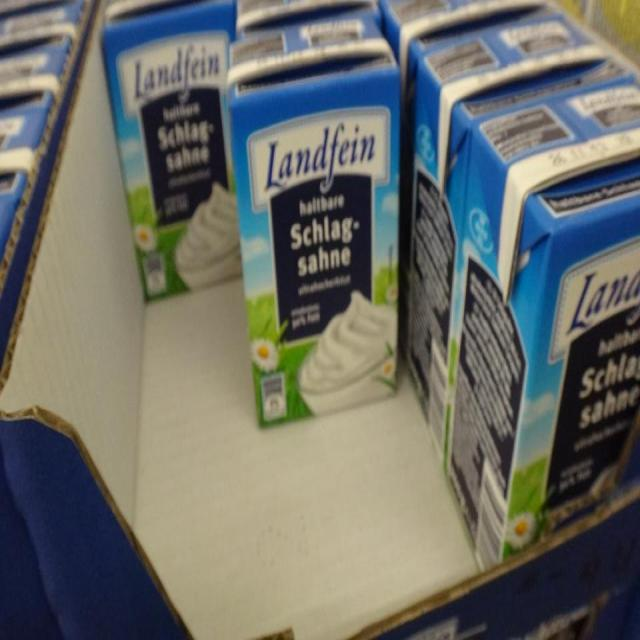Cream: (405, 14, 629, 457), (448, 83, 639, 567), (228, 13, 399, 427), (103, 0, 241, 300)
